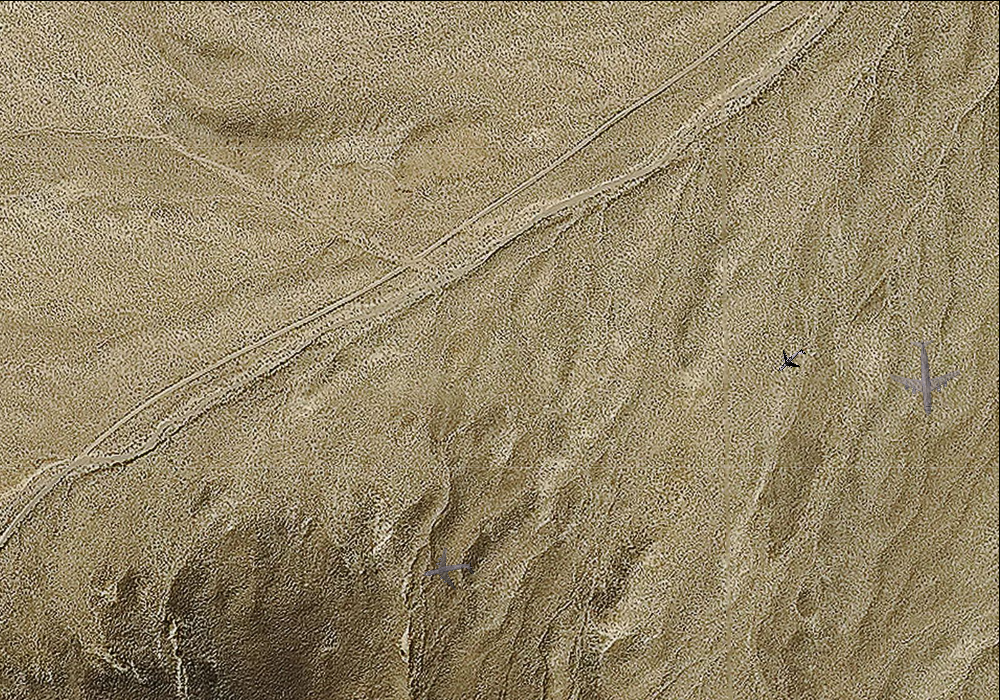plane: (887, 336, 964, 418), (418, 541, 478, 600), (769, 338, 813, 382)
